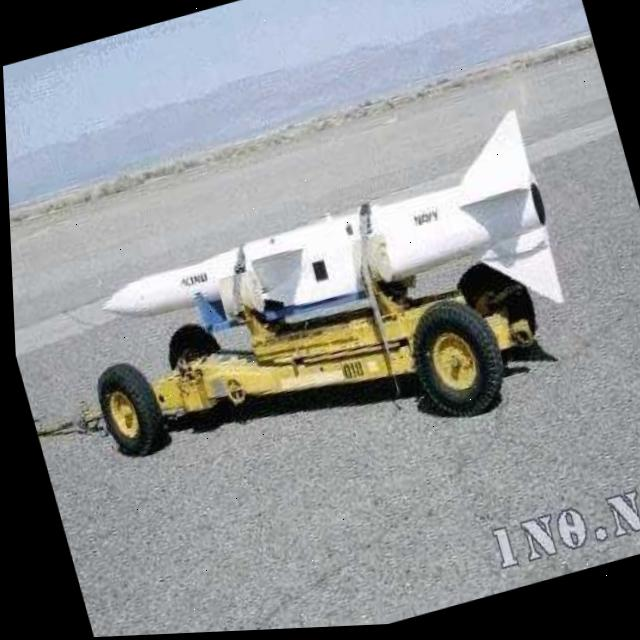missile: (73, 109, 588, 430)
